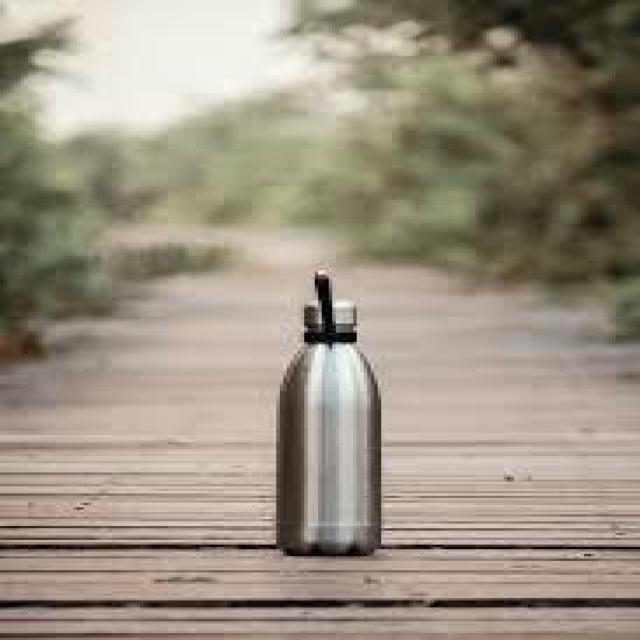bottle: (276, 272, 381, 554)
